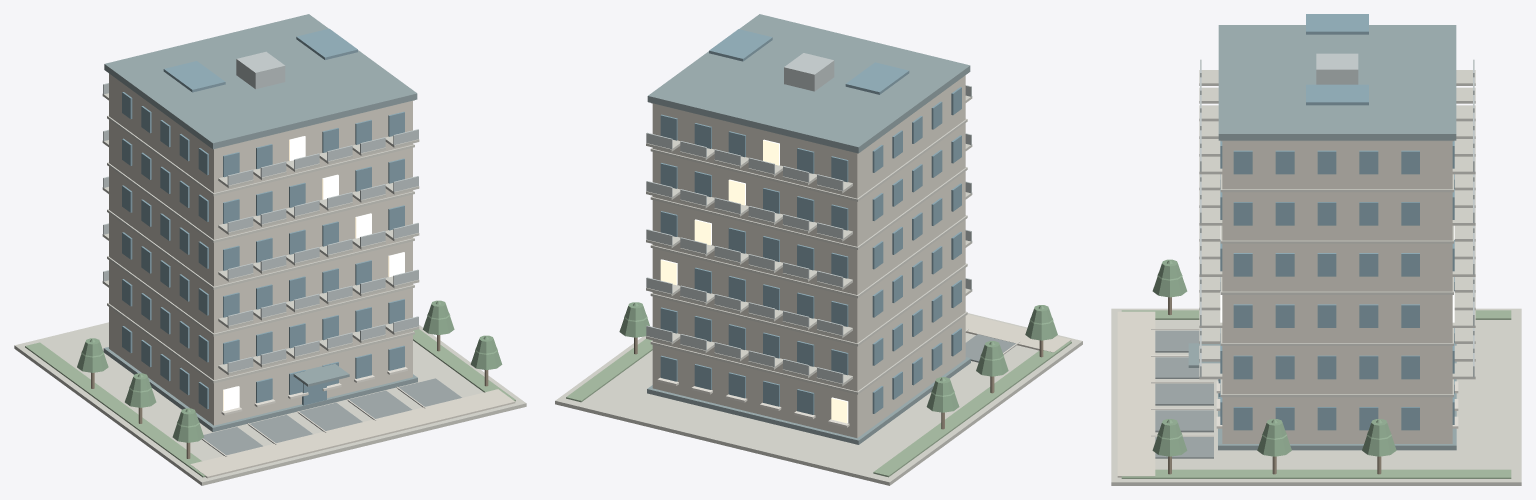
File: remaster_apartment_8.glb
The picture shows the model from 3 angles, left to right: view 1: azimuth 30°, elevation 25°; view 2: azimuth 150°, elevation 25°; view 3: azimuth 270°, elevation 25°; orthographic projection. The views are drawn at different scales.
Visible parts, largest first — view 1: remaster_apartment_8 cream, remaster_apartment_8 roof, remaster_apartment_8 stone, remaster_apartment_8 glass, remaster_apartment_8 metal, remaster_apartment_8 asphalt, remaster_apartment_8 green, remaster_apartment_8 leaf, remaster_apartment_8 warm, remaster_apartment_8 white; view 2: remaster_apartment_8 cream, remaster_apartment_8 stone, remaster_apartment_8 roof, remaster_apartment_8 glass, remaster_apartment_8 metal, remaster_apartment_8 green, remaster_apartment_8 leaf, remaster_apartment_8 warm, remaster_apartment_8 white, remaster_apartment_8 asphalt; view 3: remaster_apartment_8 cream, remaster_apartment_8 stone, remaster_apartment_8 roof, remaster_apartment_8 glass, remaster_apartment_8 asphalt, remaster_apartment_8 green, remaster_apartment_8 leaf, remaster_apartment_8 metal, remaster_apartment_8 white.
Boxes of the visible parts, <box> form: remaster_apartment_8 cream: <box>109,73,515,478</box>; remaster_apartment_8 roof: <box>103,14,417,431</box>; remaster_apartment_8 stone: <box>14,93,526,485</box>; remaster_apartment_8 glass: <box>122,28,404,409</box>; remaster_apartment_8 metal: <box>103,51,418,372</box>; remaster_apartment_8 asphalt: <box>202,378,461,455</box>; remaster_apartment_8 green: <box>25,329,515,477</box>; remaster_apartment_8 leaf: <box>77,300,502,442</box>; remaster_apartment_8 warm: <box>223,136,404,410</box>; remaster_apartment_8 white: <box>202,367,425,456</box>; remaster_apartment_8 cream: <box>652,75,1071,438</box>; remaster_apartment_8 stone: <box>555,95,1082,485</box>; remaster_apartment_8 roof: <box>647,14,970,444</box>; remaster_apartment_8 glass: <box>660,29,961,414</box>; remaster_apartment_8 metal: <box>646,53,971,384</box>; remaster_apartment_8 green: <box>566,339,1071,477</box>; remaster_apartment_8 leaf: <box>619,302,1057,412</box>; remaster_apartment_8 warm: <box>660,139,848,423</box>; remaster_apartment_8 white: <box>657,329,1019,427</box>; remaster_apartment_8 asphalt: <box>965,334,1016,362</box>; remaster_apartment_8 cream: <box>1117,141,1452,477</box>; remaster_apartment_8 stone: <box>1111,70,1521,485</box>; remaster_apartment_8 roof: <box>1188,25,1456,450</box>; remaster_apartment_8 glass: <box>1218,14,1454,430</box>; remaster_apartment_8 asphalt: <box>1155,330,1213,458</box>; remaster_apartment_8 green: <box>1121,310,1511,478</box>; remaster_apartment_8 leaf: <box>1152,259,1396,456</box>; remaster_apartment_8 metal: <box>1200,53,1474,377</box>; remaster_apartment_8 white: <box>1151,329,1458,436</box>.
Size of the model in its own units: 19.65 by 17.98 by 19.6.
